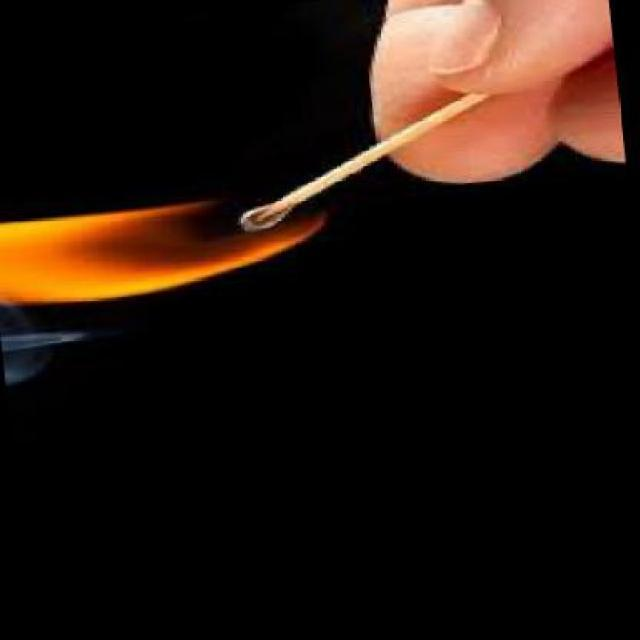Fire: (1, 189, 336, 311)
